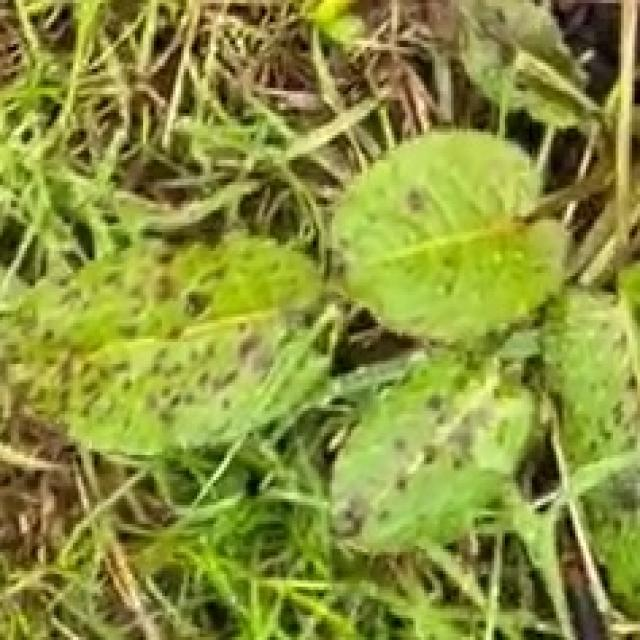organic waste: (24, 85, 640, 578)
